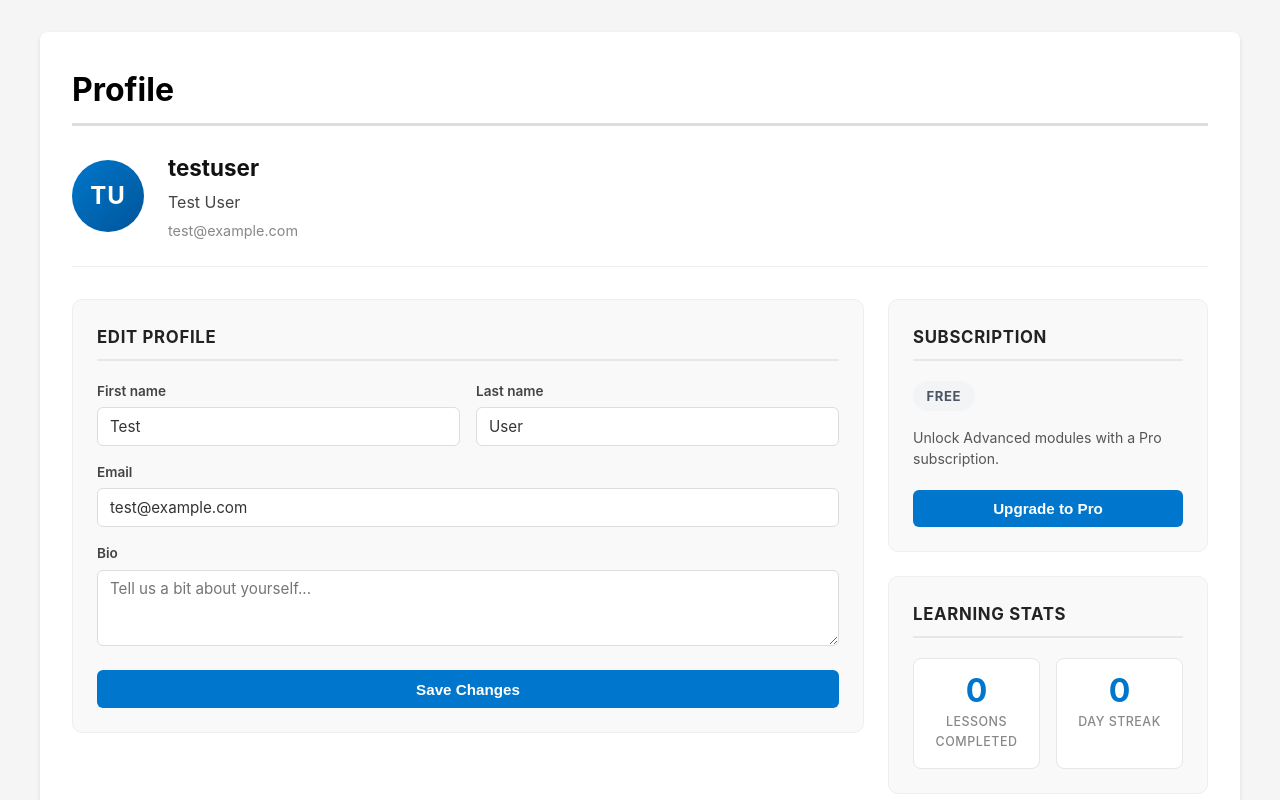
Test: ProfilePage › shows error message when save fails
The width and height of the screenshot is (1280, 800).
Expected: the field labelled "Email" is shown, [97,488,839,527]
Click the button "Save Changes". click: (468, 689)
box: [97,670,839,708]
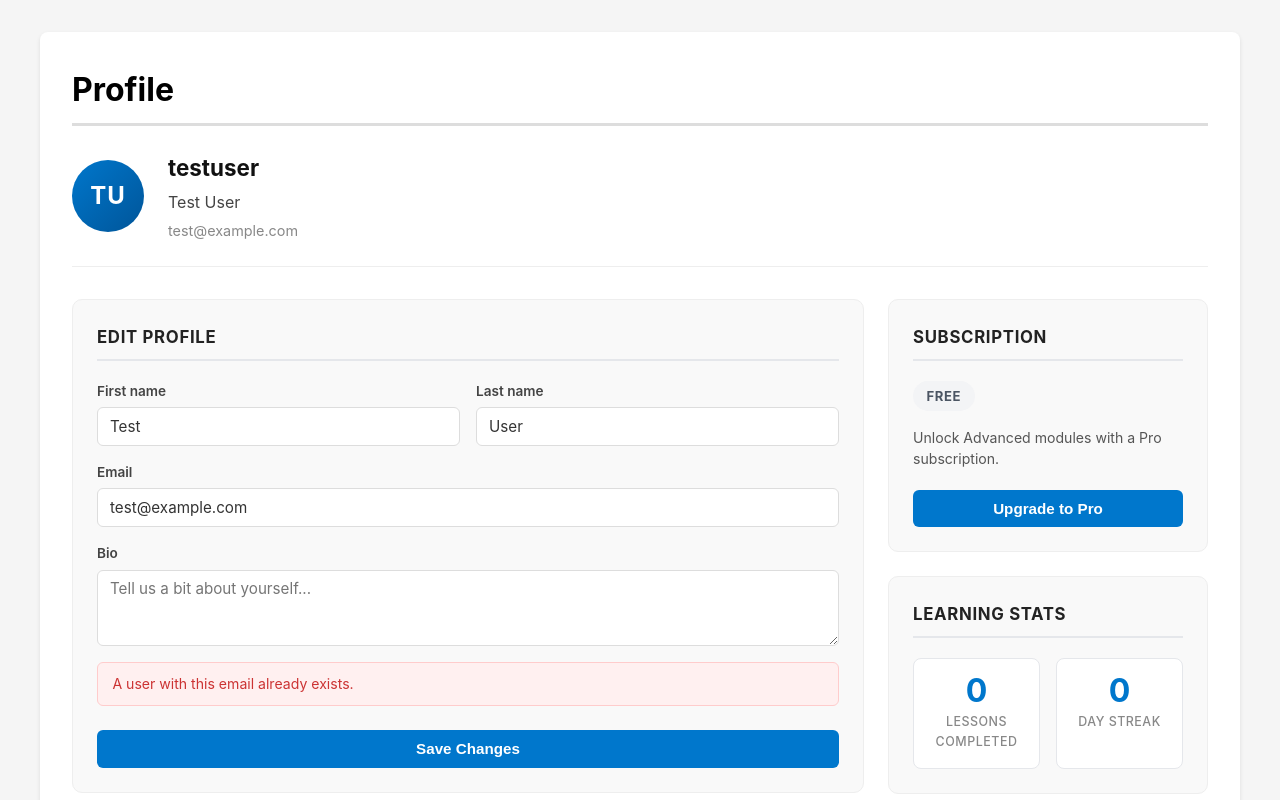
Now the text "A user with this email already exists." is shown, box [97,662,839,706]
